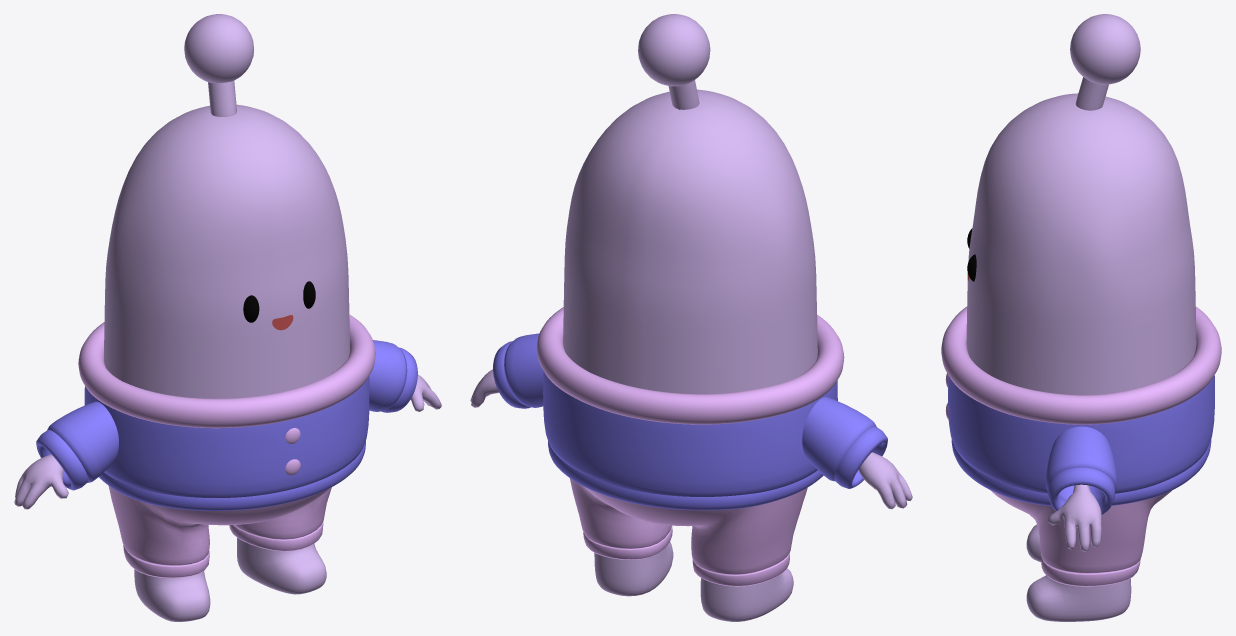
Rendered from PINKK.fbx.
3 renders of one model, left to right at view 1: azimuth 30°, elevation 25°; view 2: azimuth 150°, elevation 25°; view 3: azimuth 270°, elevation 25°, orthographic. The views are drawn at different scales.
Parts seen in each view (by area): view 1: Sphere, Sphere.002, Sphere.004, Sphere.003, Cylinder, Sphere.009, Sphere.007, Object_8.006, Cylinder.001, Sphere.008, Vert.003, Sphere.001; view 2: Sphere, Sphere.002, Sphere.004, Sphere.003, Cylinder, Sphere.009, Sphere.007, Cylinder.001, Object_8.006, Sphere.008, Vert.003; view 3: Sphere, Sphere.002, Sphere.004, Sphere.003, Sphere.009, Cylinder, Sphere.007, Object_8.006, Cylinder.001, Sphere.008, Vert.003.
Boxes of the visible parts, x1,y1,x2,y2 form: Sphere: (104, 104, 350, 621); Sphere.002: (84, 377, 369, 497); Sphere.004: (78, 314, 375, 428); Sphere.003: (108, 486, 331, 565); Cylinder: (47, 340, 407, 482); Sphere.009: (184, 14, 253, 83); Sphere.007: (99, 441, 365, 510); Object_8.006: (14, 374, 441, 509); Cylinder.001: (36, 347, 417, 490); Sphere.008: (123, 522, 323, 577); Vert.003: (208, 81, 236, 116); Sphere.001: (243, 281, 315, 322); Sphere: (563, 89, 817, 621); Sphere.002: (543, 371, 837, 496); Sphere.004: (536, 307, 844, 424); Sphere.003: (570, 478, 807, 575); Cylinder: (504, 333, 876, 481); Sphere.009: (638, 14, 710, 86); Sphere.007: (548, 441, 823, 510); Cylinder.001: (493, 341, 887, 488); Object_8.006: (470, 369, 912, 509); Sphere.008: (583, 526, 789, 586); Vert.003: (668, 80, 699, 109); Sphere: (966, 93, 1196, 621); Sphere.002: (948, 375, 1214, 493); Sphere.004: (941, 306, 1221, 424); Sphere.003: (991, 490, 1171, 573); Sphere.009: (1070, 14, 1140, 84); Cylinder: (1045, 426, 1117, 500); Sphere.007: (951, 439, 1211, 506); Object_8.006: (1047, 484, 1101, 551); Cylinder.001: (1047, 467, 1115, 514); Sphere.008: (1041, 557, 1140, 586); Vert.003: (1075, 77, 1108, 110).
Size of the model in its own units: 119 by 153 by 68.16.
